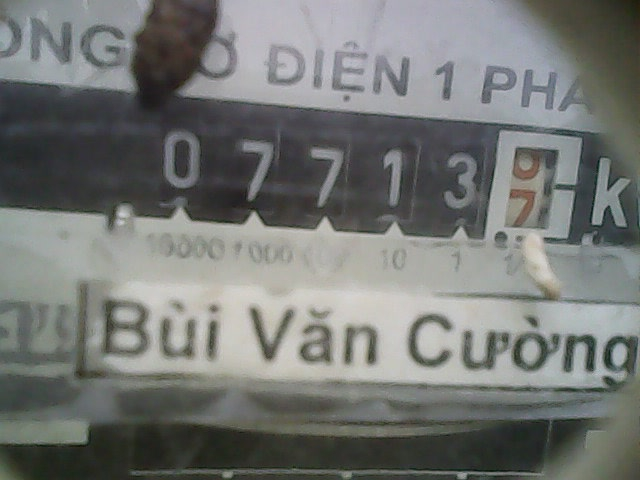phy_plate: (136, 95, 579, 246)
